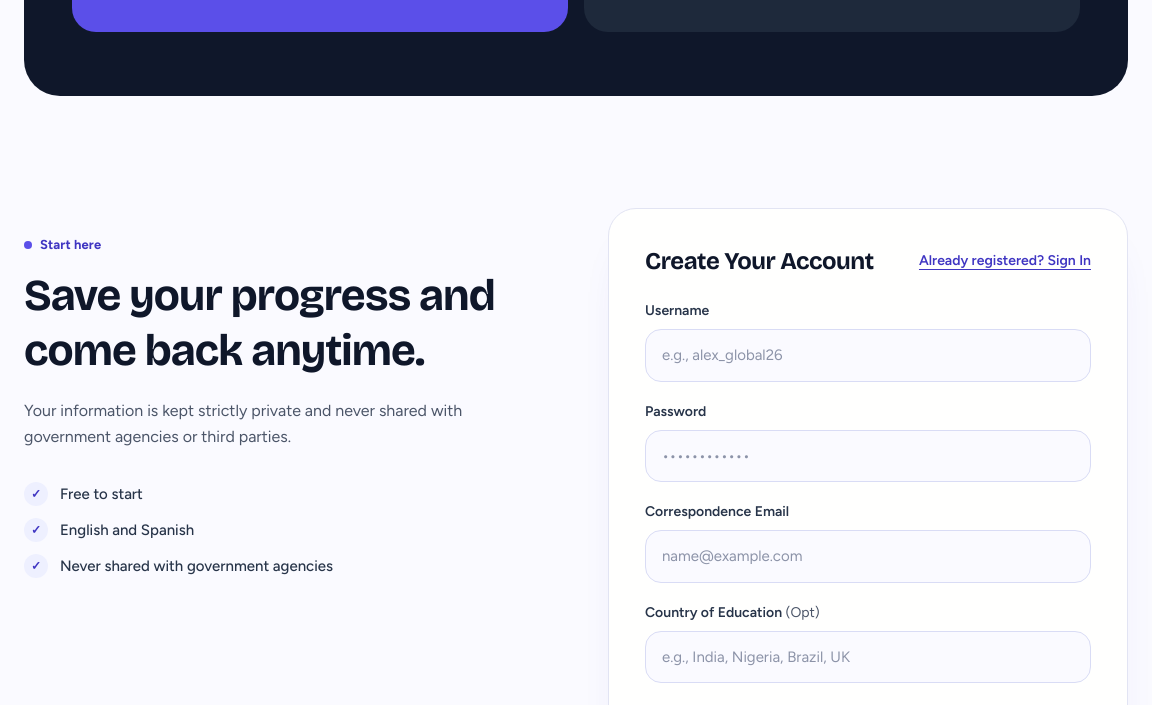
Scenario: Optional qualification details and account-country validation › retains account sign-up validation in en
(page scrolled)
Type "new-country-user" into the field with test id "input-username" at (868, 355), box x1=645 y1=329 x2=1091 y2=382
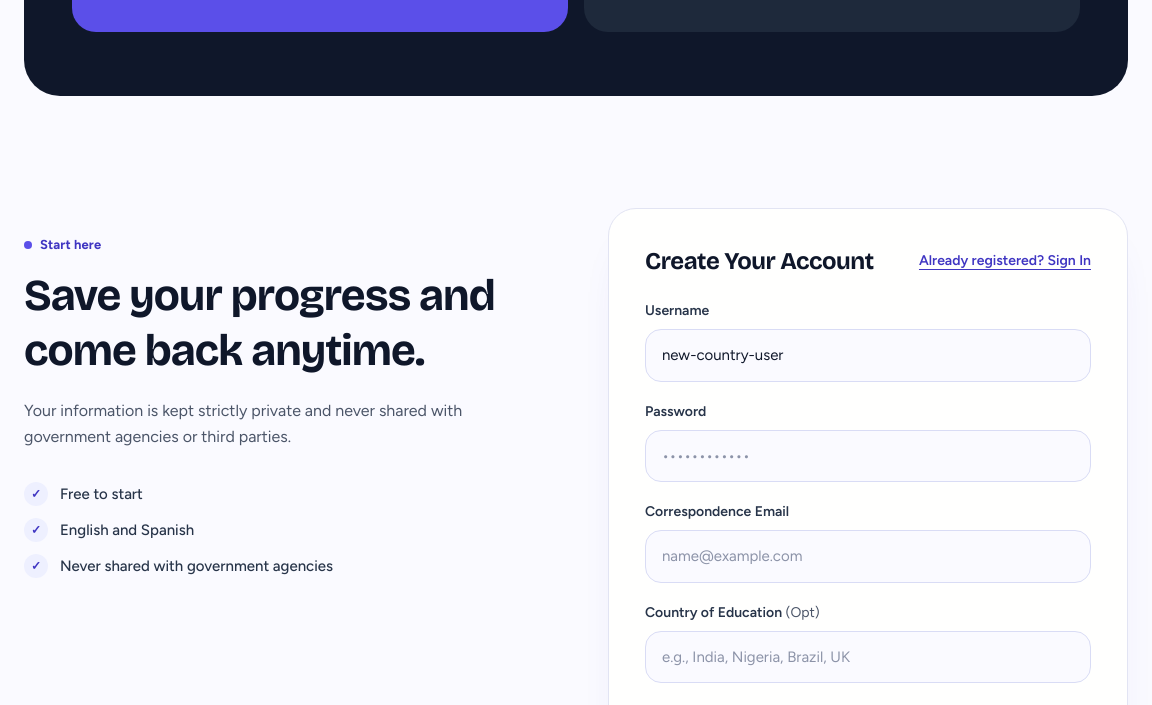
Type "password123" into the password field with test id "input-password" at (868, 456), box x1=645 y1=430 x2=1091 y2=482
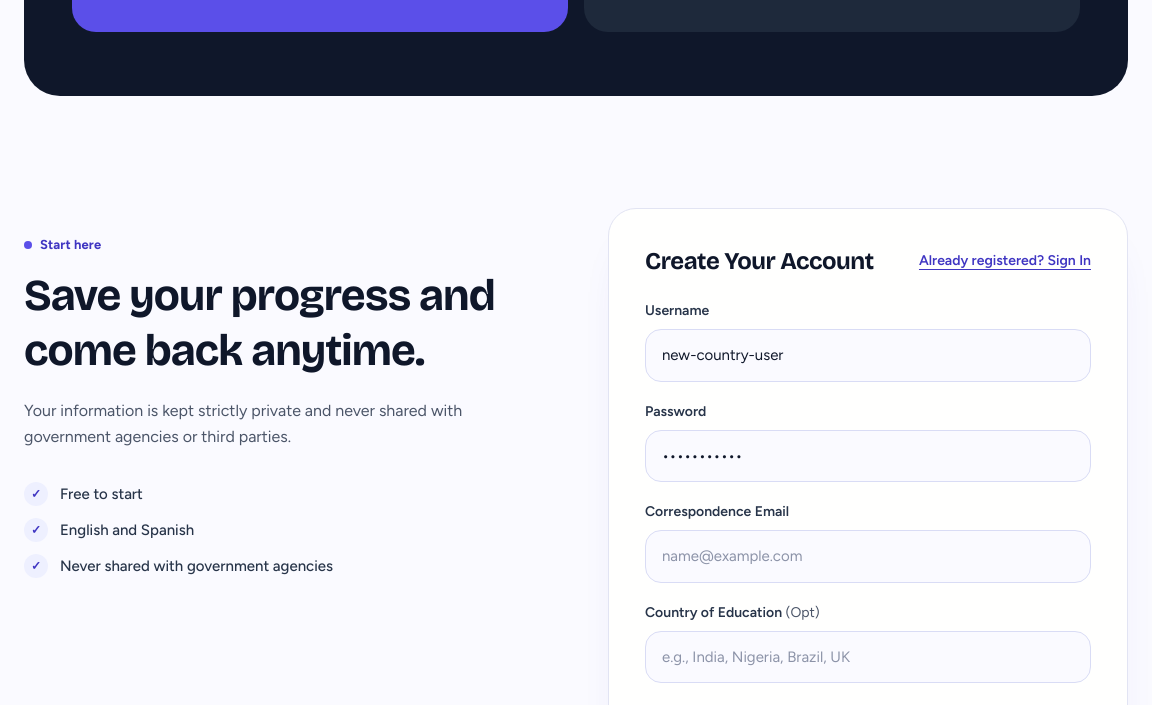
Type "test@example.test" into the field with test id "input-email" at (868, 556), box x1=645 y1=530 x2=1091 y2=583
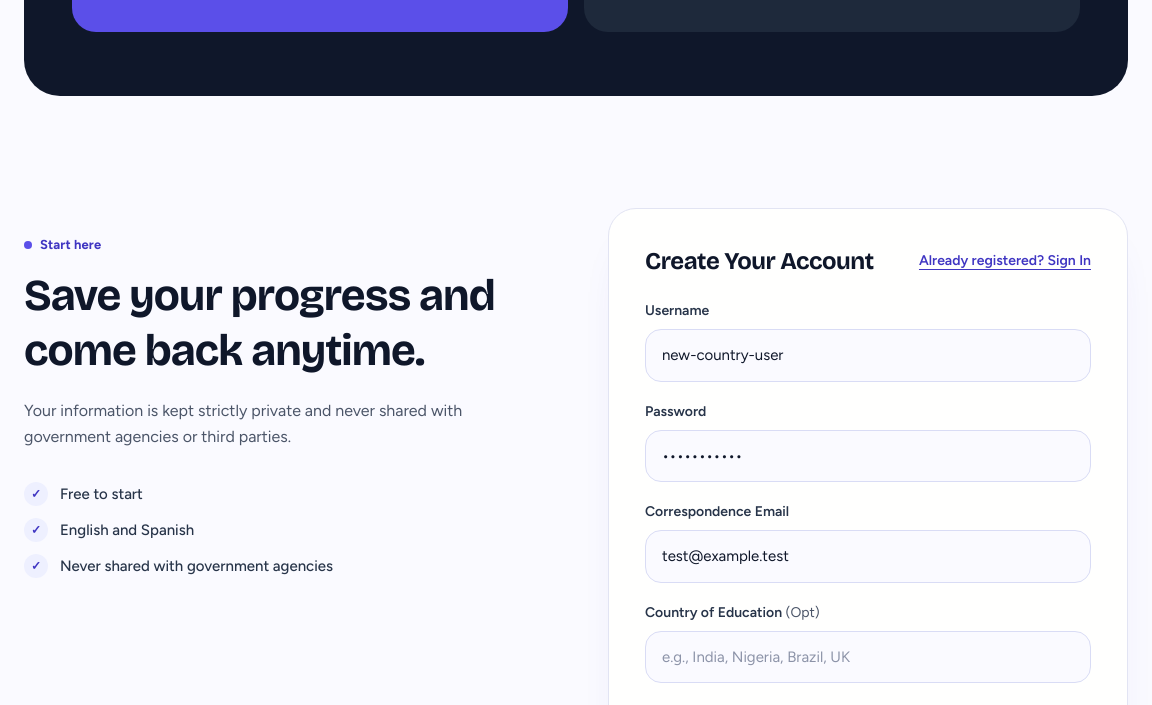
Type "Not a country" into the field with test id "input-signup-country" at (868, 657), box x1=645 y1=631 x2=1091 y2=683
(page scrolled)
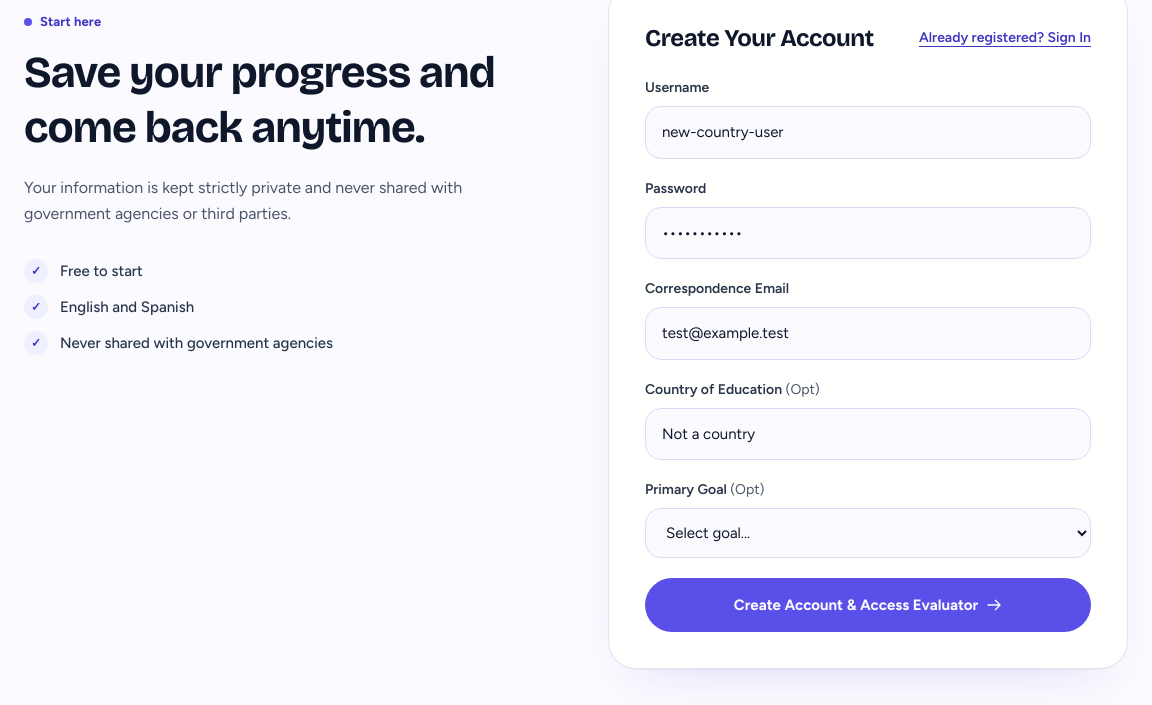
Submit the form with test id "form-auth", box x1=645 y1=78 x2=1091 y2=632
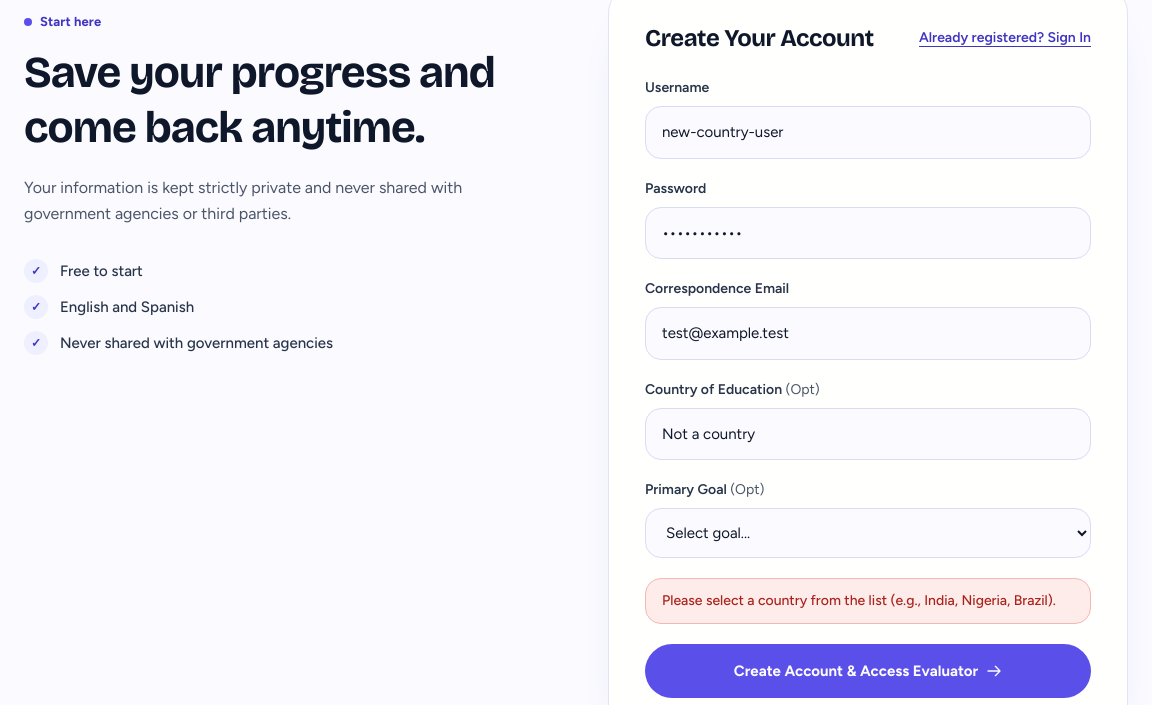
Result: the text "Please select a country from the list (e.g., India, Nigeria, Brazil)." is shown at x1=645 y1=578 x2=1091 y2=624
